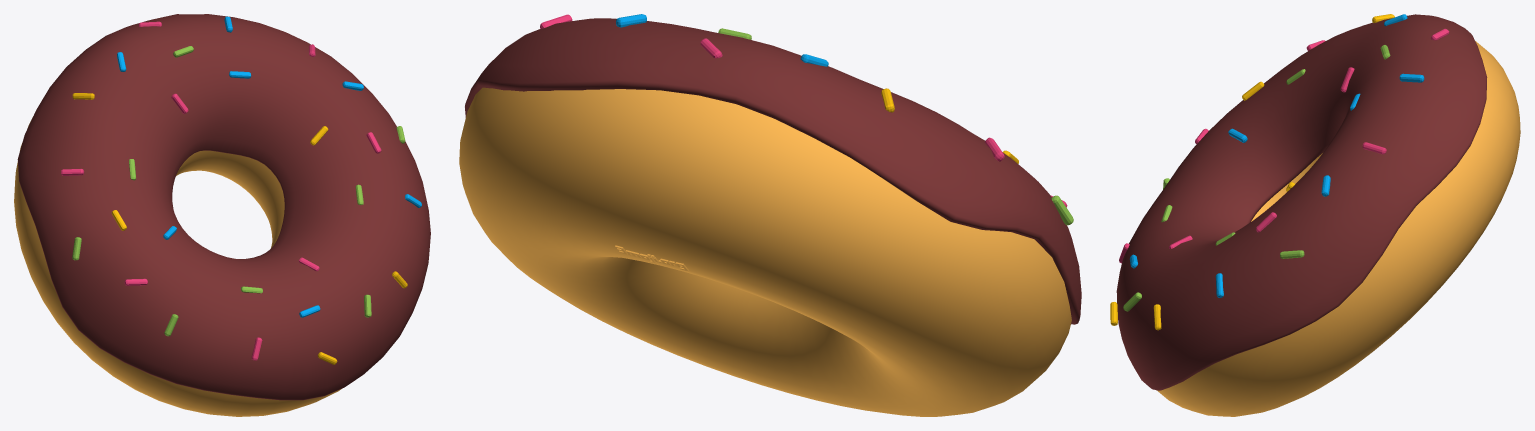
The model's file is doughnut.gltf.
3 views of the same model, side by side, from view 1: azimuth 30°, elevation 25°; view 2: azimuth 150°, elevation 25°; view 3: azimuth 270°, elevation 25° (orthographic). The views are drawn at different scales.
Parts seen in each view (by area): view 1: Torus.006; view 2: Torus.006; view 3: Torus.006.
Part boxes in pixels (x1=…): Torus.006: x1=14, y1=14, x2=430, y2=416; Torus.006: x1=459, y1=14, x2=1081, y2=416; Torus.006: x1=1110, y1=14, x2=1520, y2=416.
Bounding box in the file's own units: 2.24 × 1.78 × 1.9.
Materials: 1 (1 with a texture image).
